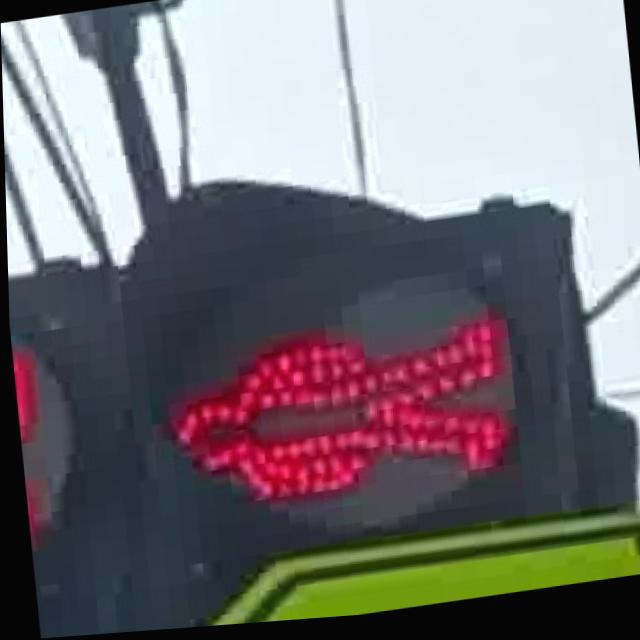red_light: (136, 291, 520, 537)
